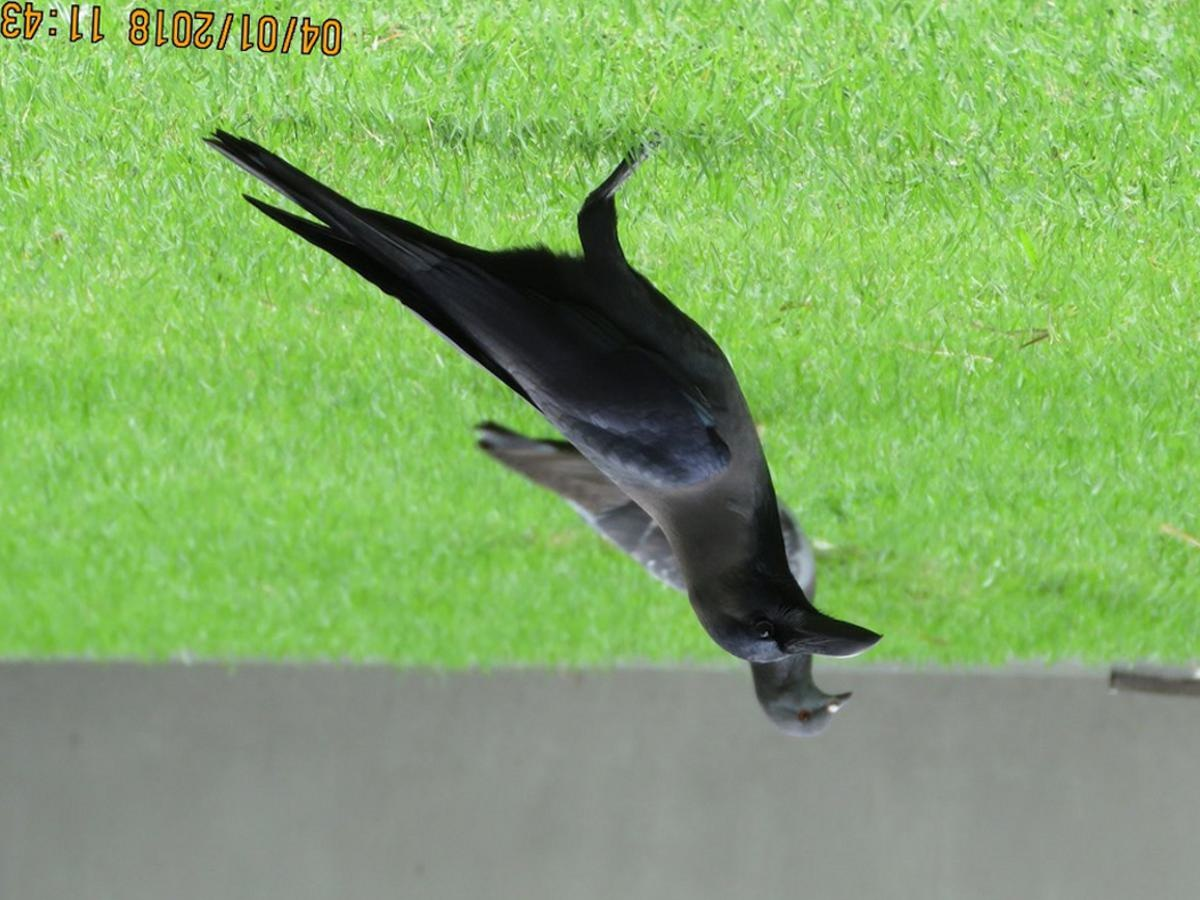crow: (199, 120, 883, 664)
